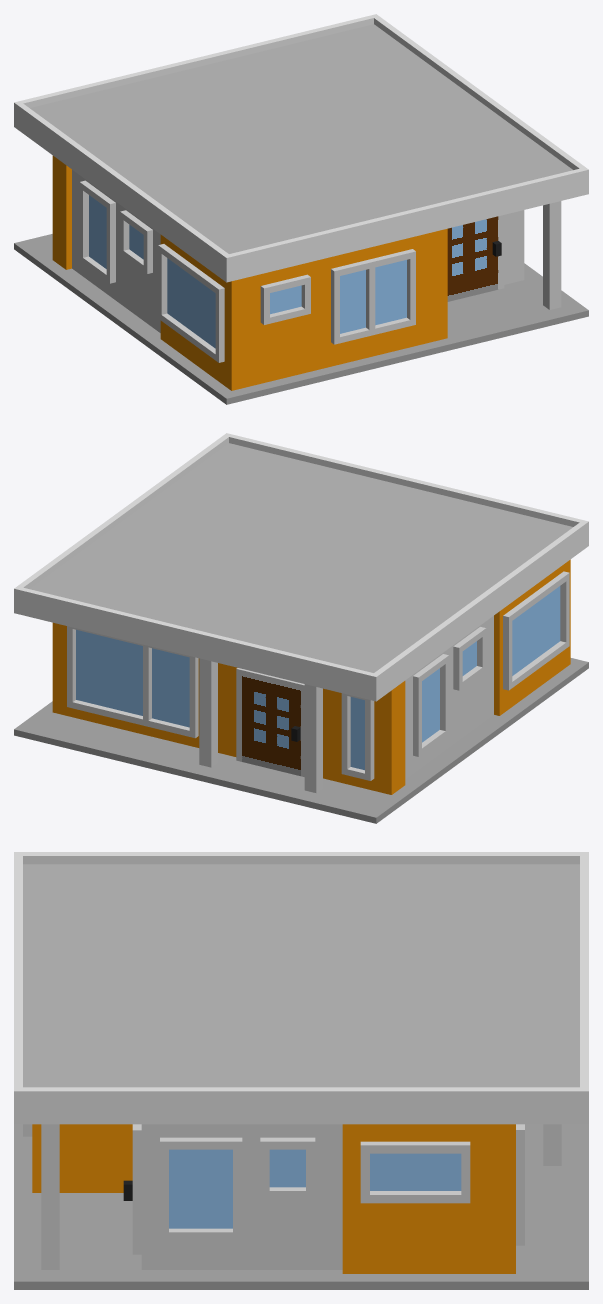
File: obj_house1b.fbx
The picture shows the model from 3 angles, top to bottom: view 1: azimuth 30°, elevation 25°; view 2: azimuth 150°, elevation 25°; view 3: azimuth 270°, elevation 25°; orthographic projection. The views are drawn at different scales.
Visible parts, largest first — view 1: obj_house1b; view 2: obj_house1b; view 3: obj_house1b.
Part boxes in pixels (x1,y1,x2,y2): obj_house1b: [14, 14, 588, 404]; obj_house1b: [14, 433, 588, 823]; obj_house1b: [14, 852, 588, 1289].
Bounding box in the file's own units: 6.2 × 6.3 × 2.4.
Materials: 1 (1 with a texture image).
